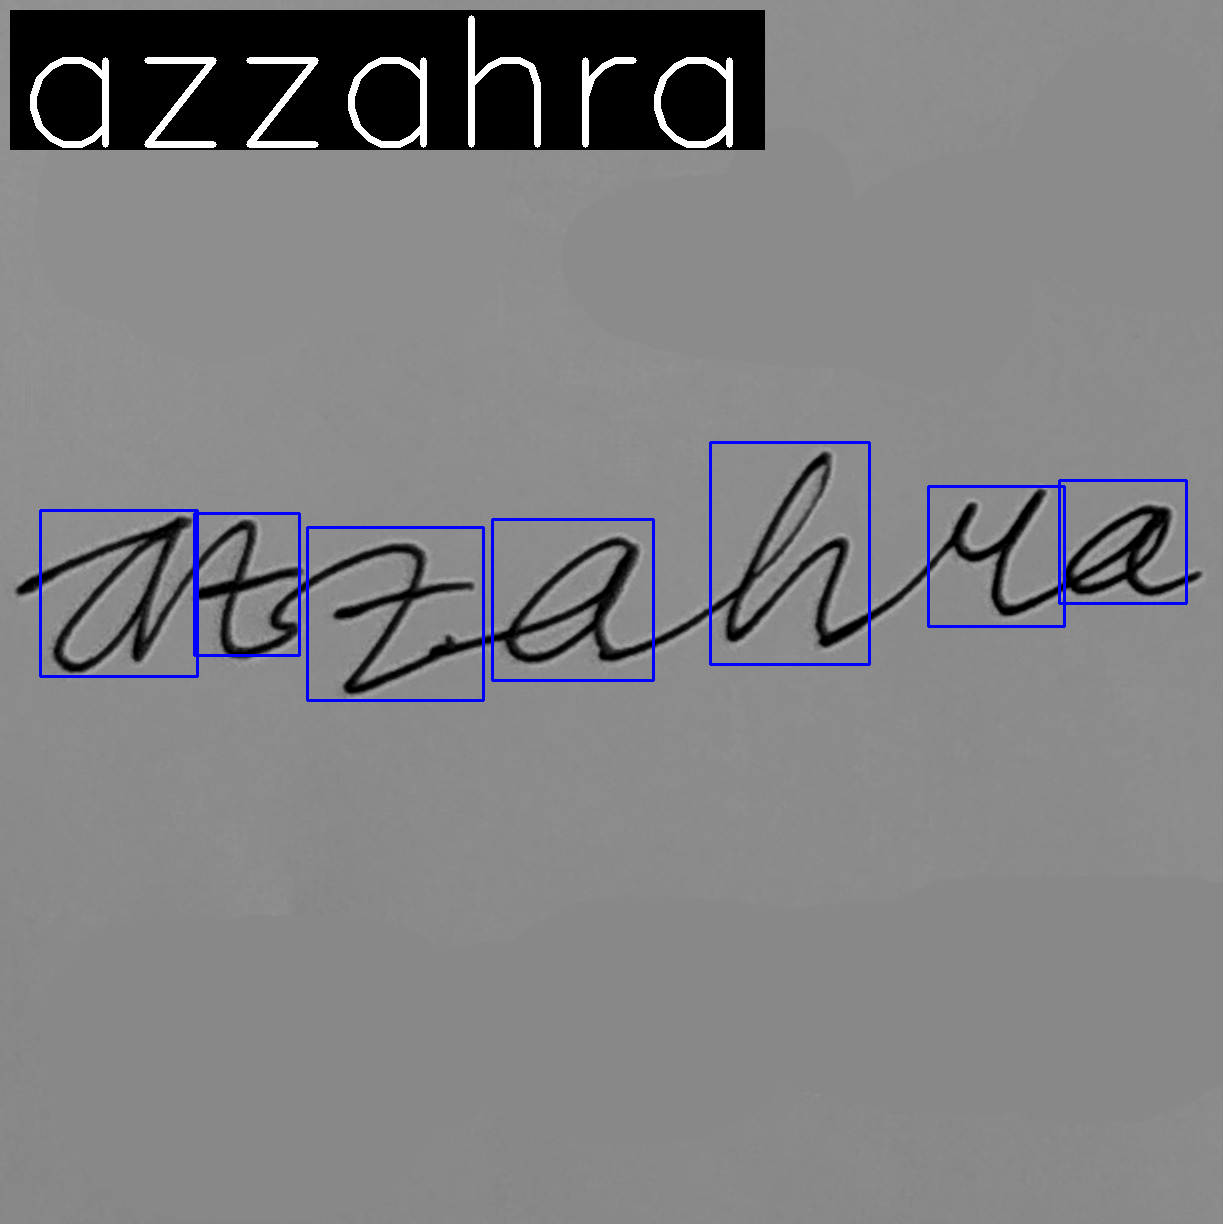a: (46, 512, 192, 672), (500, 533, 641, 669), (1059, 502, 1194, 601)
h: (721, 447, 852, 650)
r: (905, 485, 1049, 623)
z: (319, 538, 478, 699), (193, 512, 308, 663)
